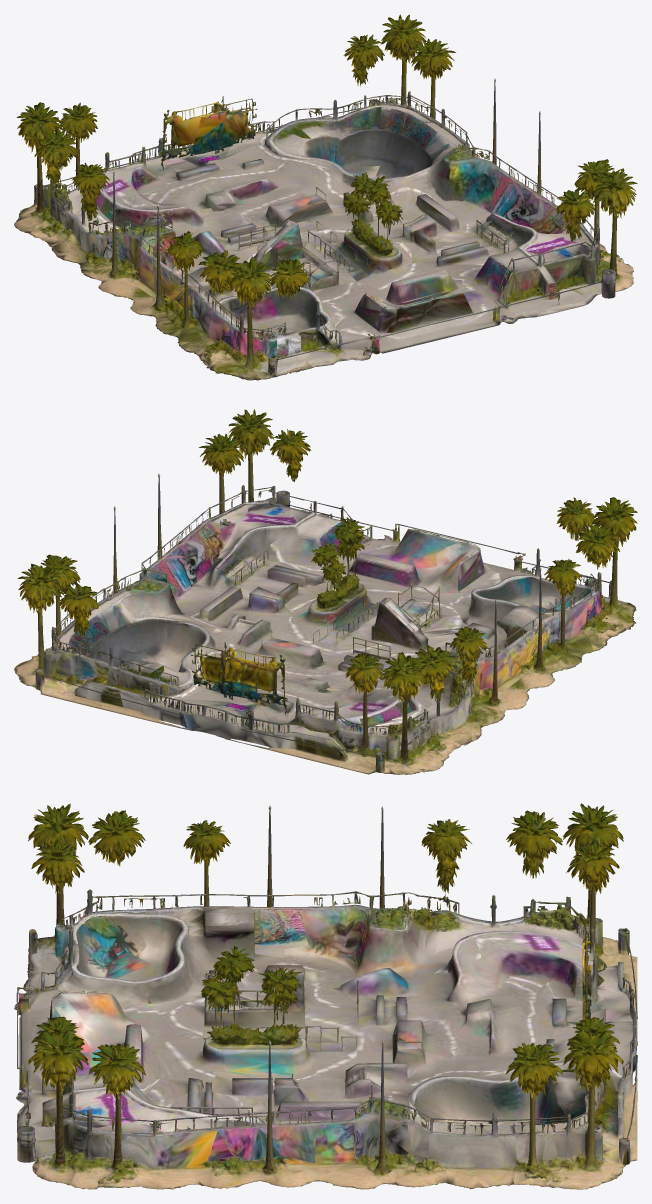
The model's file is venice-skatepark.glb.
3 renders of one model, top to bottom at view 1: azimuth 30°, elevation 25°; view 2: azimuth 150°, elevation 25°; view 3: azimuth 270°, elevation 25°, orthographic. The views are drawn at different scales.
Parts seen in each view (by area): view 1: Mesh_0; view 2: Mesh_0; view 3: Mesh_0.
Part boxes in pixels (x1,y1,x2,y2): Mesh_0: (14, 14, 637, 380); Mesh_0: (14, 409, 637, 774); Mesh_0: (14, 803, 637, 1189).
Bounding box in the file's own units: 1.88 × 0.5017 × 1.9.
1 material, 1 textured.
